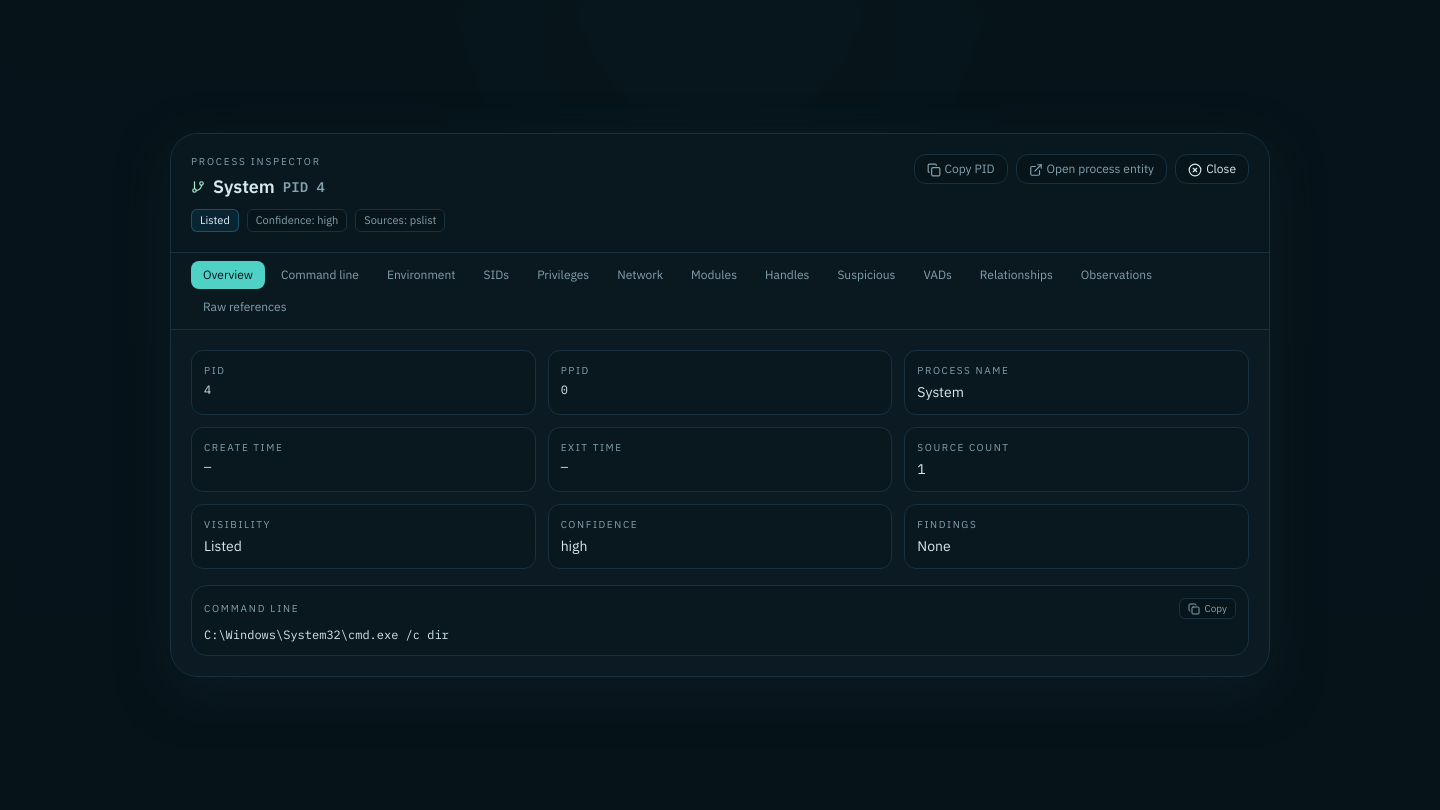
Test: ProcessDetailModal › command line › renders canonical command line when present
The width and height of the screenshot is (1440, 810).
Check: the dialog with test id "process-detail-modal" is shown, box [170, 133, 1270, 677]
Click the tab with test id "process-detail-modal-tab-command_line" at (320, 275), box [269, 261, 371, 289]
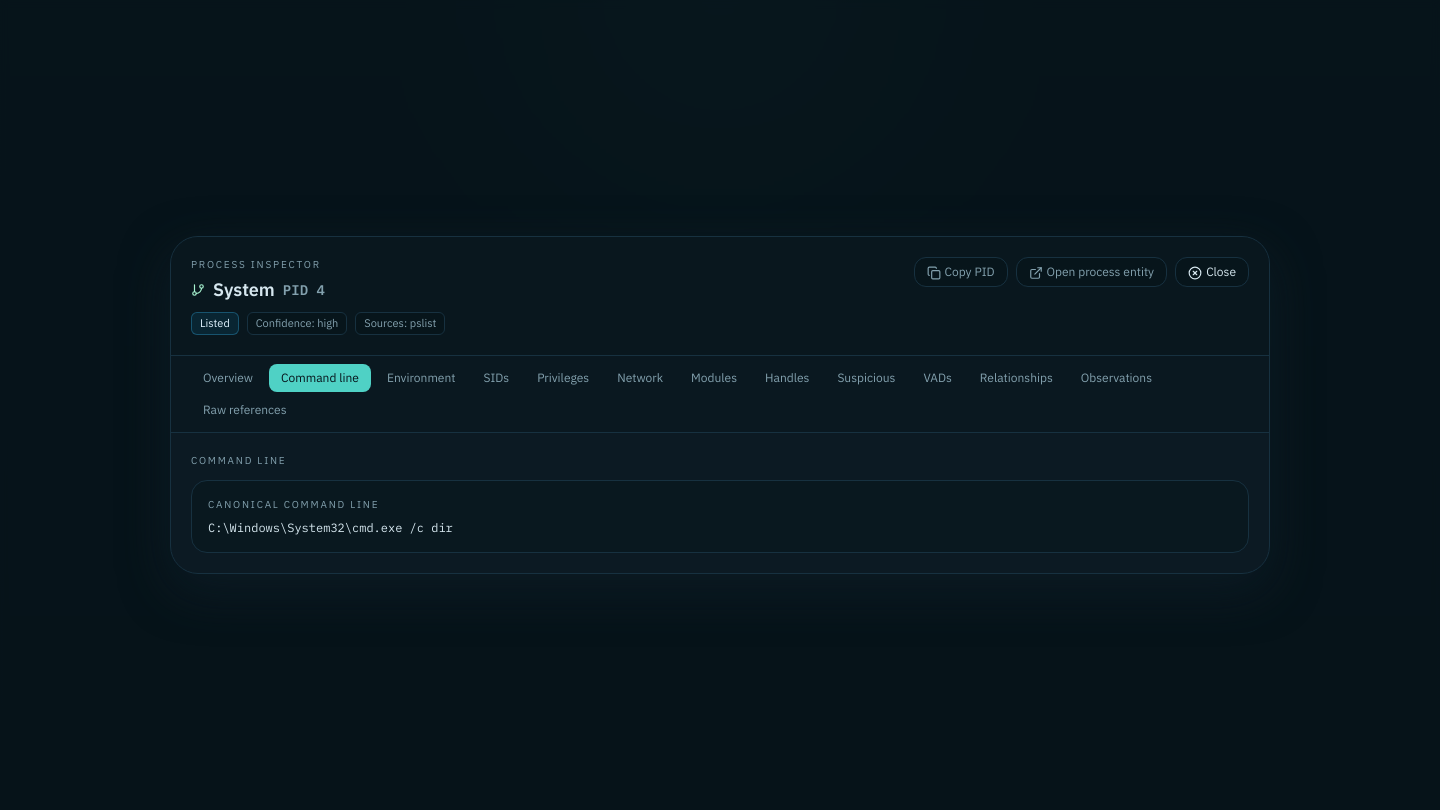
Check: the text "C:\\Windows\\System32\\cmd.exe /c dir" is shown, box [208, 520, 453, 535]
Check: the panel with test id "process-detail-modal-tabpanel-command-line" is shown, box [191, 453, 1249, 553]
